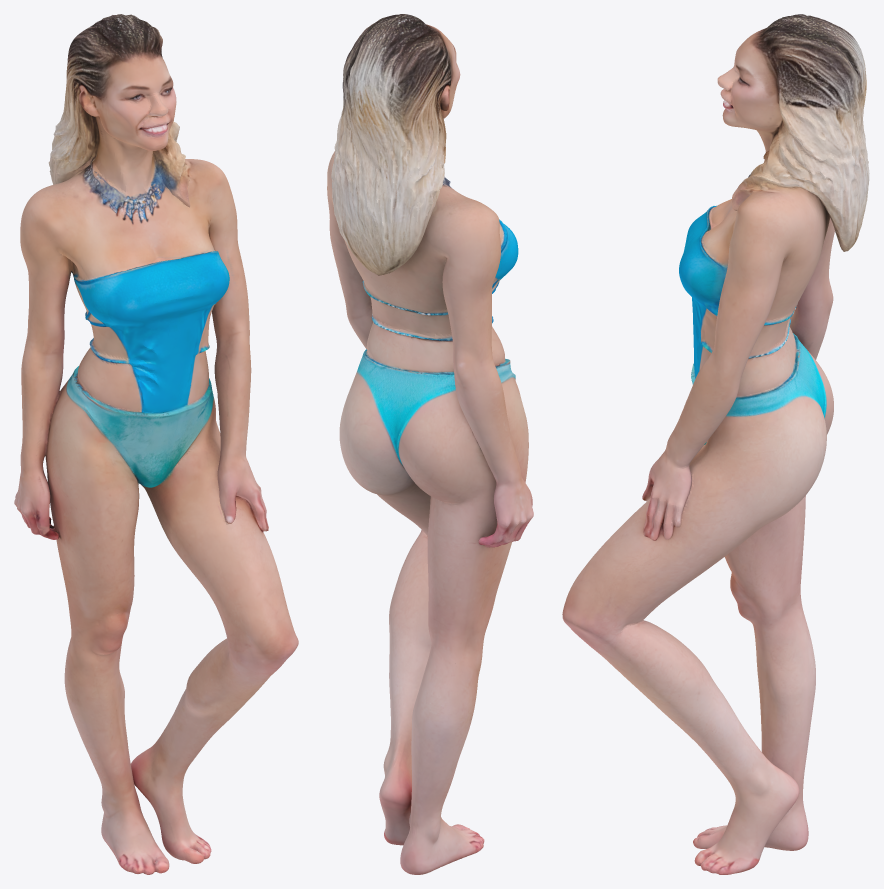
File: caelinus-avatar-shaded.glb
3 renders of one model, left to right at view 1: azimuth 30°, elevation 25°; view 2: azimuth 150°, elevation 25°; view 3: azimuth 270°, elevation 25°, orthographic. The views are drawn at different scales.
Parts seen in each view (by area): view 1: model; view 2: model; view 3: model.
Boxes of the visible parts, x1,y1,x2,y2 form: model: [14, 14, 298, 874]; model: [327, 14, 533, 874]; model: [562, 14, 869, 874].
Size of the model in its own units: 0.4506 by 1.72 by 0.5713.
1 material, 1 textured.
